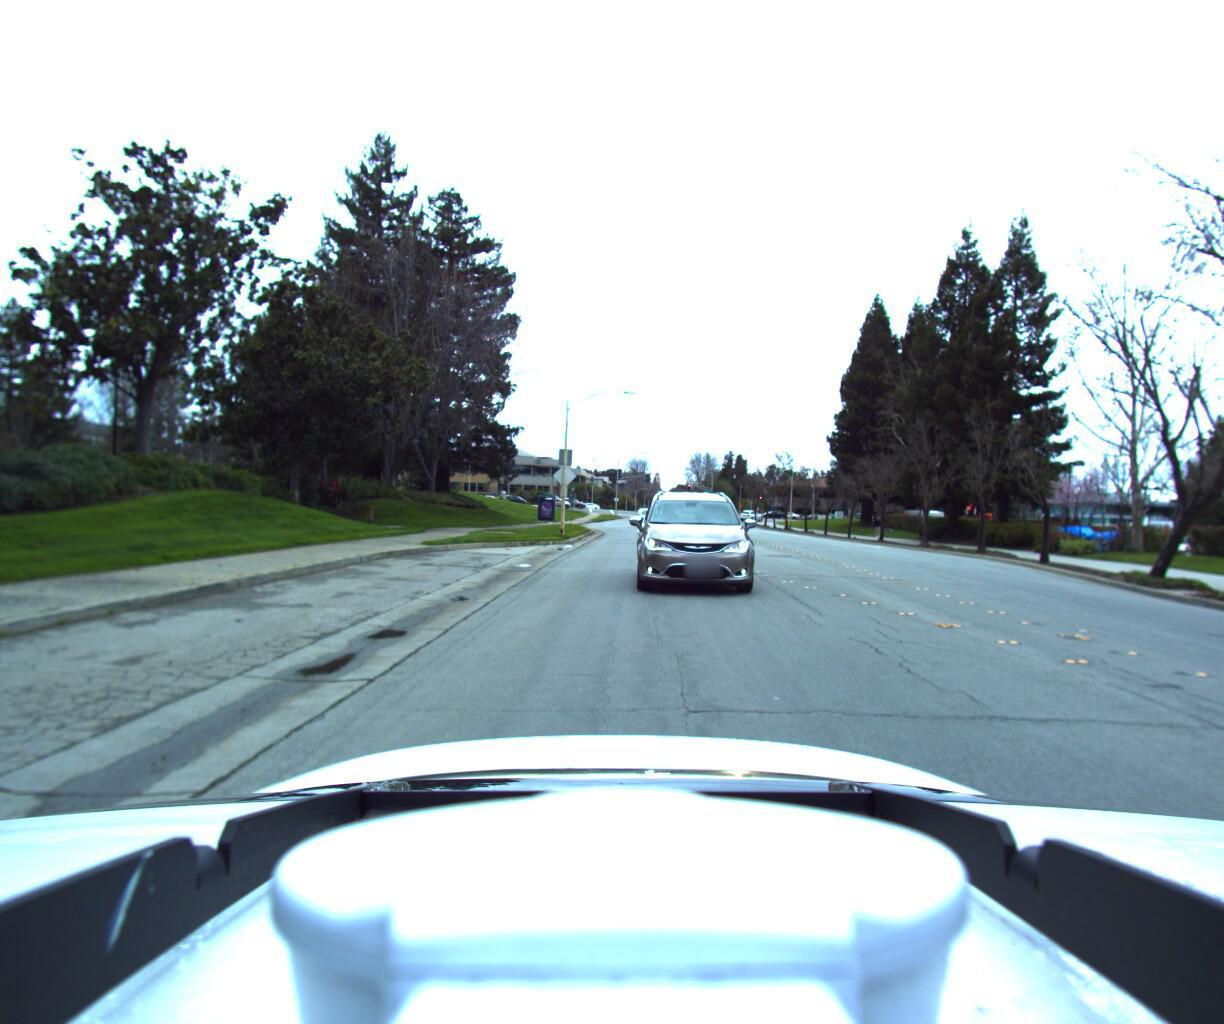car: (636, 479, 764, 596)
